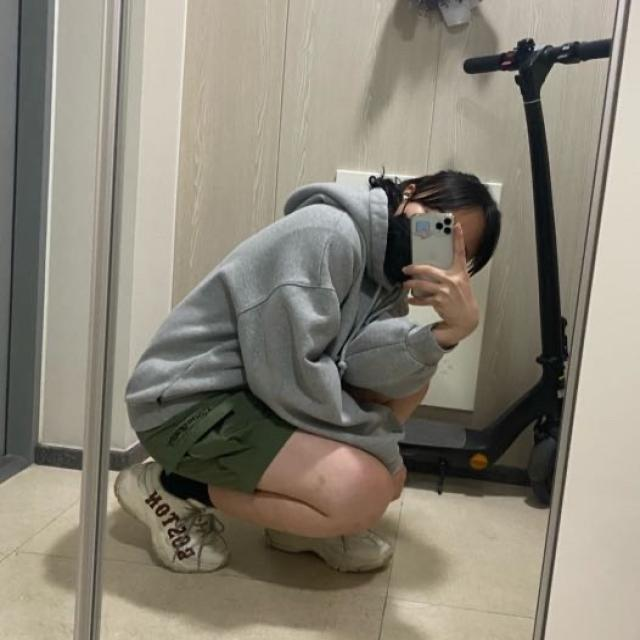hoodies: (124, 183, 454, 482)
shortpants: (136, 390, 295, 501)
